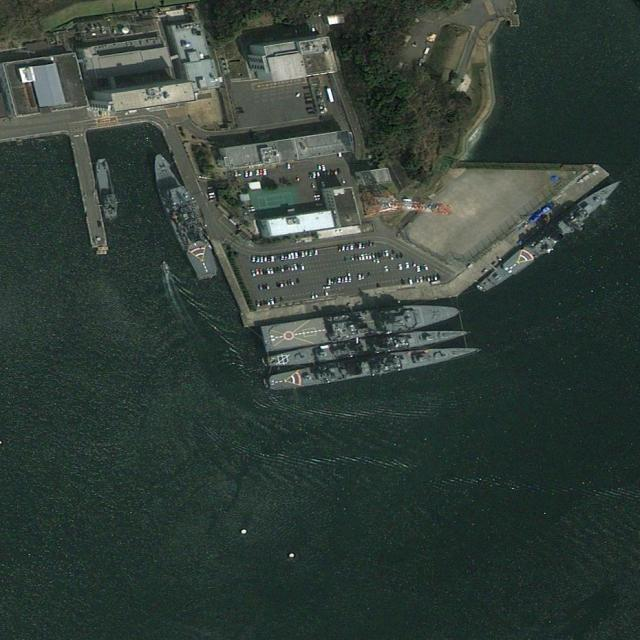Destroyer: (479, 175, 625, 296)
Dock: (68, 130, 114, 258)
Frigate: (267, 337, 483, 392), (266, 322, 472, 370)
Other Warship: (260, 297, 461, 353), (144, 147, 224, 286), (93, 156, 120, 220)
